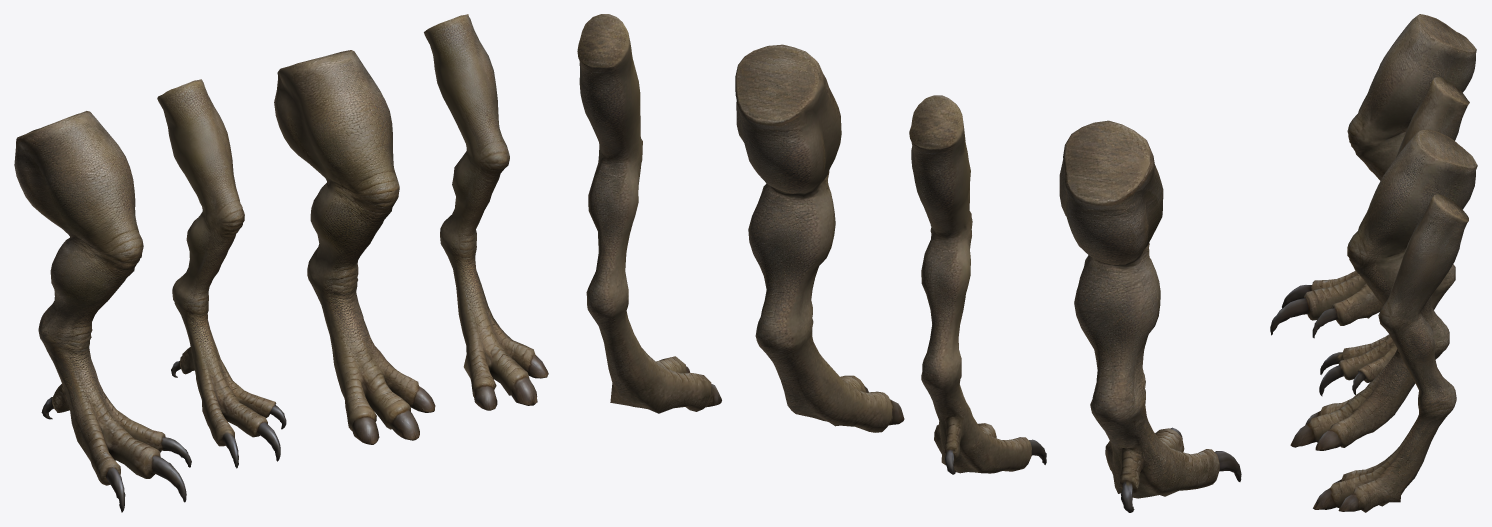
File: leg.glb
3 renders of one model, left to right at view 1: azimuth 30°, elevation 25°; view 2: azimuth 150°, elevation 25°; view 3: azimuth 270°, elevation 25°, orthographic. The views are drawn at different scales.
Visible parts, largest first — view 1: tripo_node_b2e3fb00-375f-4ce3-bbda-311eece29767; view 2: tripo_node_b2e3fb00-375f-4ce3-bbda-311eece29767; view 3: tripo_node_b2e3fb00-375f-4ce3-bbda-311eece29767.
Part boxes in pixels (box(x1,y1,x2,y2)): tripo_node_b2e3fb00-375f-4ce3-bbda-311eece29767: box(14, 14, 548, 512); tripo_node_b2e3fb00-375f-4ce3-bbda-311eece29767: box(577, 14, 1241, 512); tripo_node_b2e3fb00-375f-4ce3-bbda-311eece29767: box(1270, 14, 1477, 512).
Size of the model in its own units: 0.998 by 0.7012 by 0.4199.
1 material, 1 textured.
